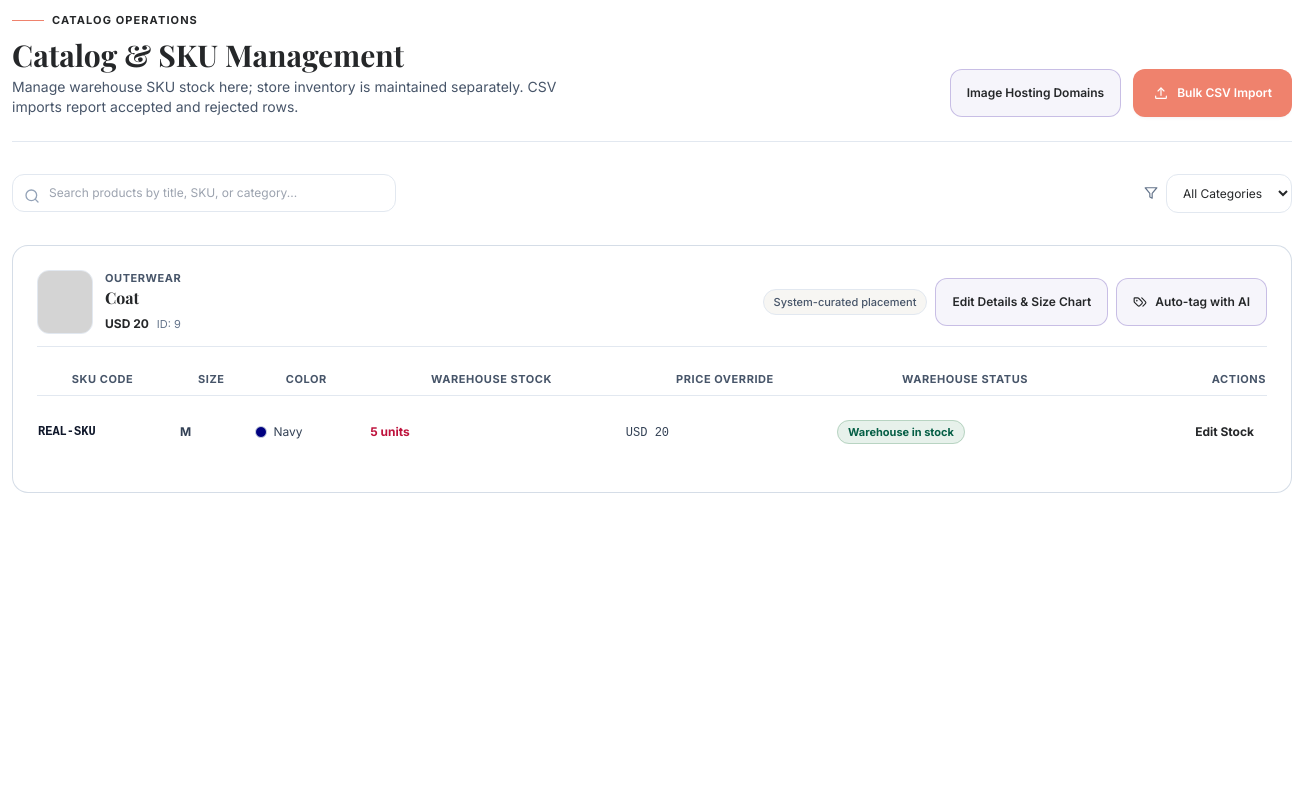
B03 catalog management › D9: a 429 on auto-tag renders the throttled copy, not a generic crash
Click the button "Auto-tag with AI". click: click(1192, 302)
box: [1116,278,1267,326]
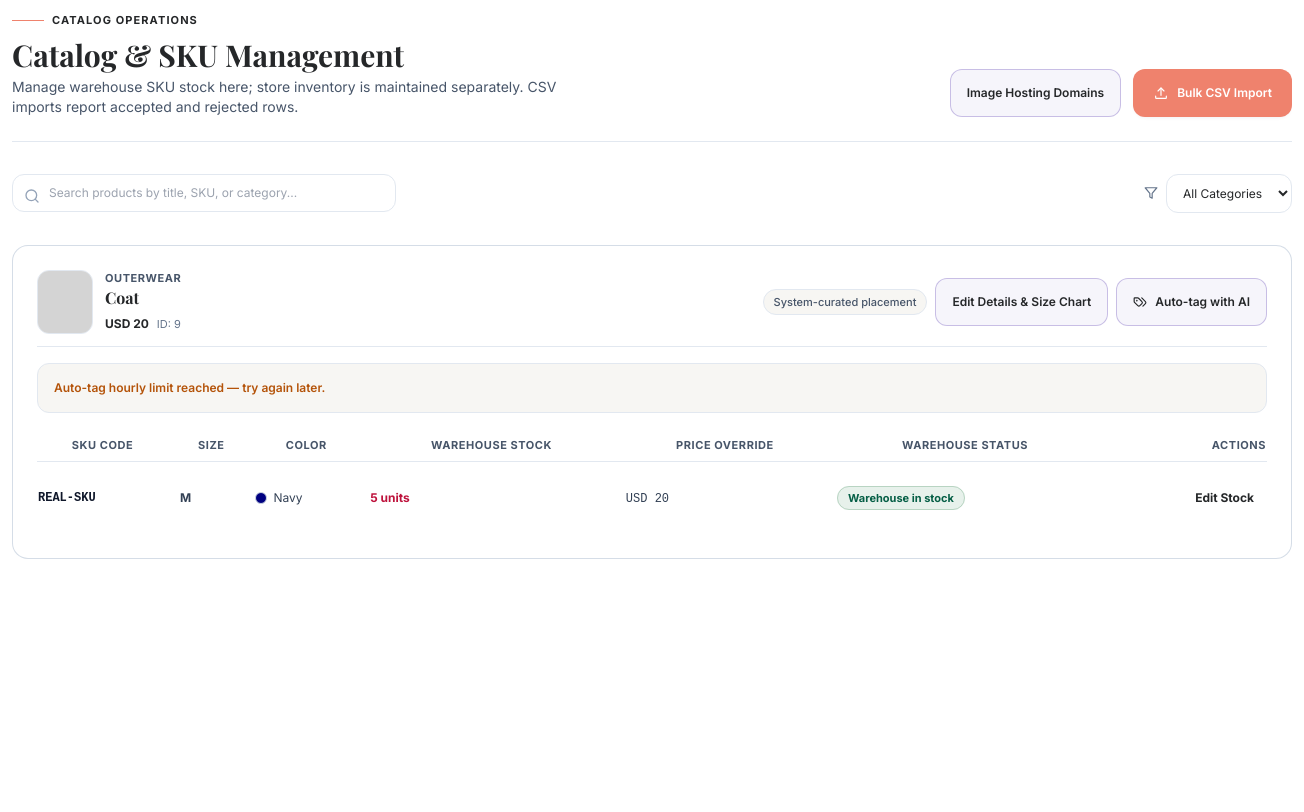
expect the text "Auto-tag hourly limit reached — try again later." is shown: met, box [54,380,325,395]
